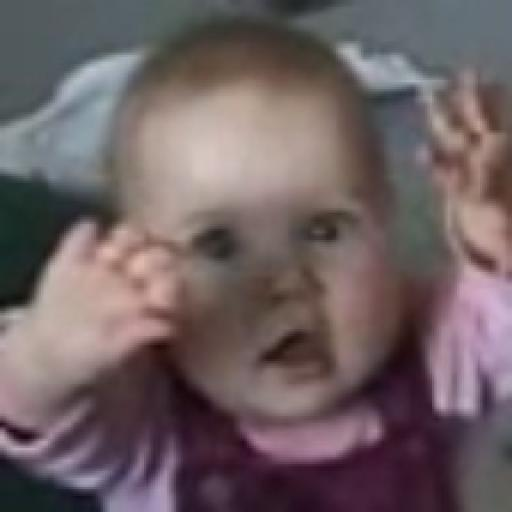Autism: (85, 0, 417, 441)
